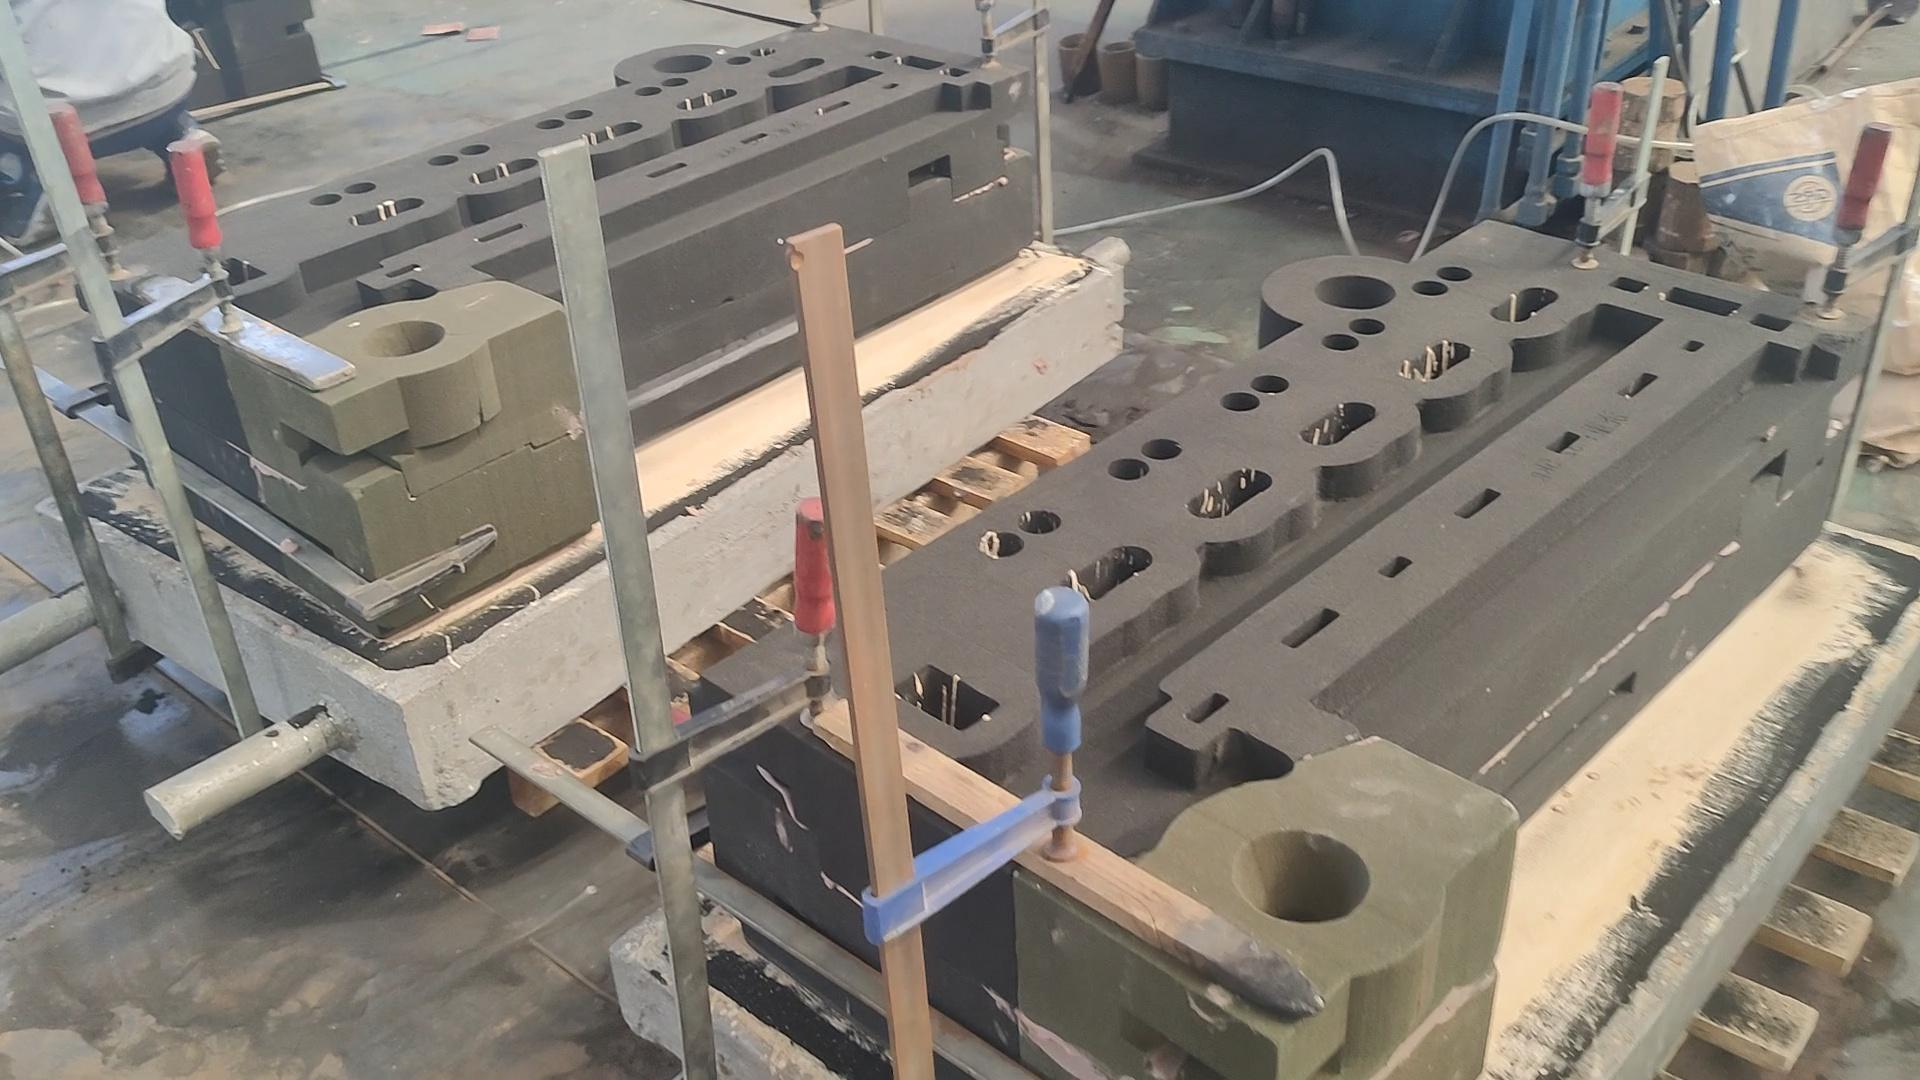pouring hole: (1233, 828, 1370, 924), (359, 319, 446, 357), (1313, 276, 1396, 310), (650, 54, 712, 73), (1059, 32, 1091, 50), (1135, 45, 1171, 59), (1098, 40, 1135, 53), (1127, 30, 1166, 42)
